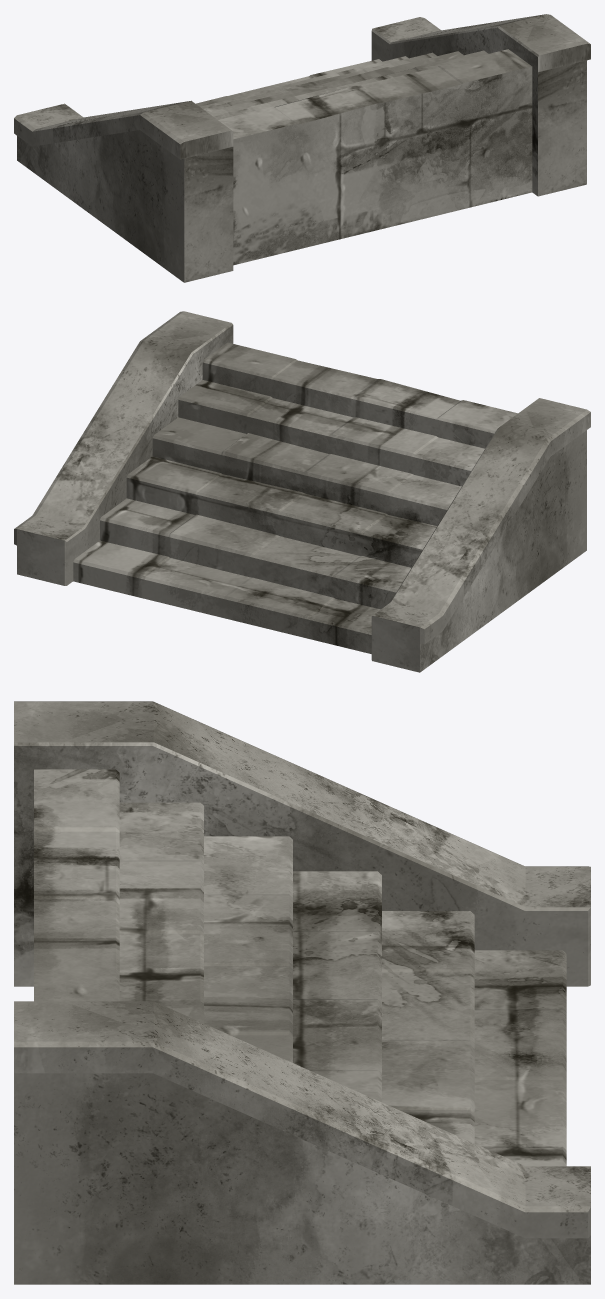
Rendered from Stair_Fbx.fbx.
The picture shows the model from 3 angles, top to bottom: view 1: azimuth 30°, elevation 25°; view 2: azimuth 150°, elevation 25°; view 3: azimuth 270°, elevation 25°; orthographic projection. The views are drawn at different scales.
Visible parts, largest first — view 1: Stair2, Stair2_Side, Side1; view 2: Stair2, Stair2_Side, Side1; view 3: Side1, Stair2, Stair2_Side.
Boxes of the visible parts, left/top/right/bottom form: Stair2: left=196, top=49, right=532, bottom=265; Stair2_Side: left=14, top=100, right=233, bottom=282; Side1: left=371, top=14, right=590, bottom=196; Stair2: left=73, top=342, right=517, bottom=653; Stair2_Side: left=371, top=398, right=590, bottom=672; Side1: left=14, top=311, right=233, bottom=585; Side1: left=14, top=1001, right=590, bottom=1284; Stair2: left=34, top=769, right=566, bottom=1166; Stair2_Side: left=14, top=701, right=590, bottom=986.
Bounding box in the file's own units: 6.19 × 2.03 × 4.36.
